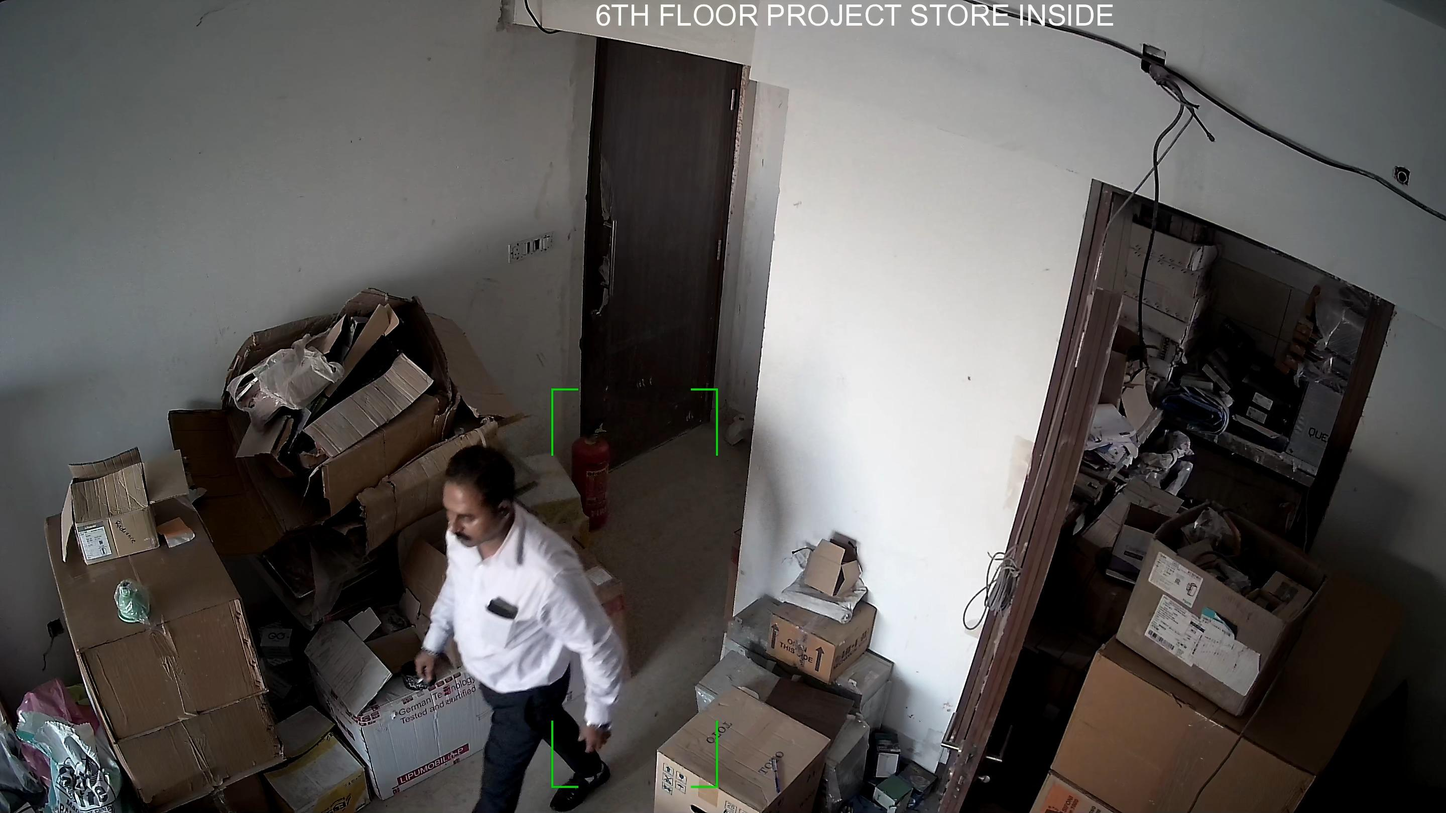Door-Close: (566, 30, 762, 487)
